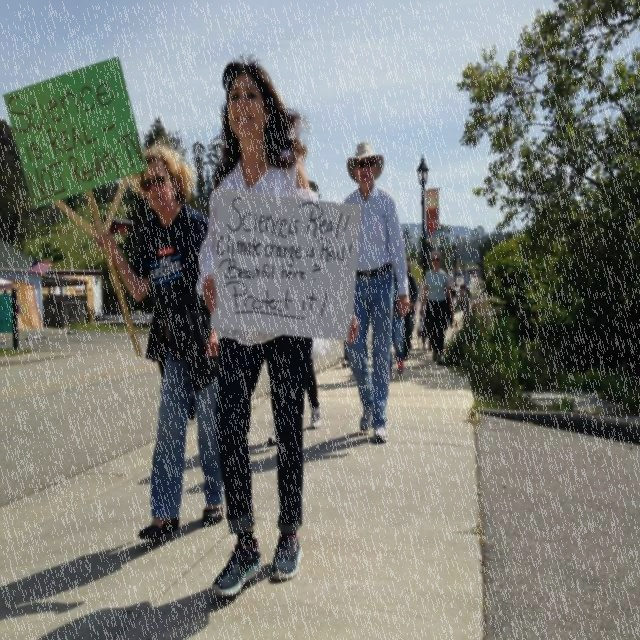pessoa: (195, 54, 360, 598), (96, 144, 226, 543), (338, 140, 413, 446), (0, 547, 216, 635), (264, 179, 331, 447), (138, 430, 370, 496), (418, 248, 456, 367), (388, 268, 406, 378), (404, 259, 418, 362), (341, 341, 368, 384), (454, 272, 482, 312), (418, 285, 428, 350), (449, 282, 457, 300)
